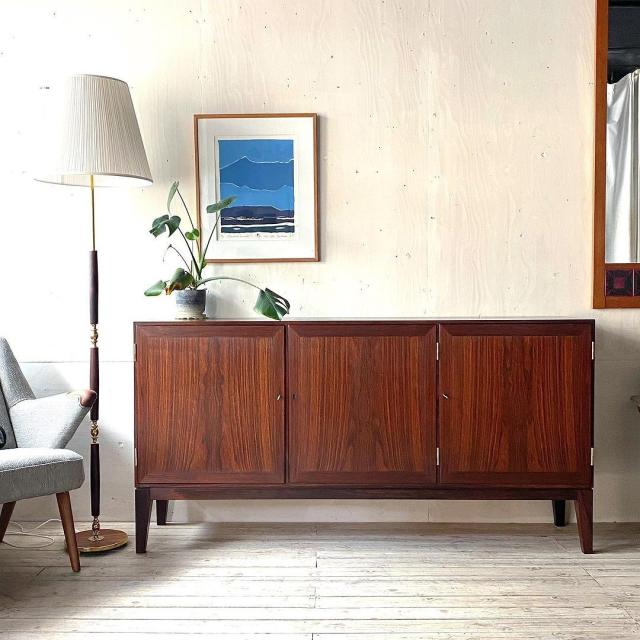vintage shelf: (130, 318, 598, 555)
